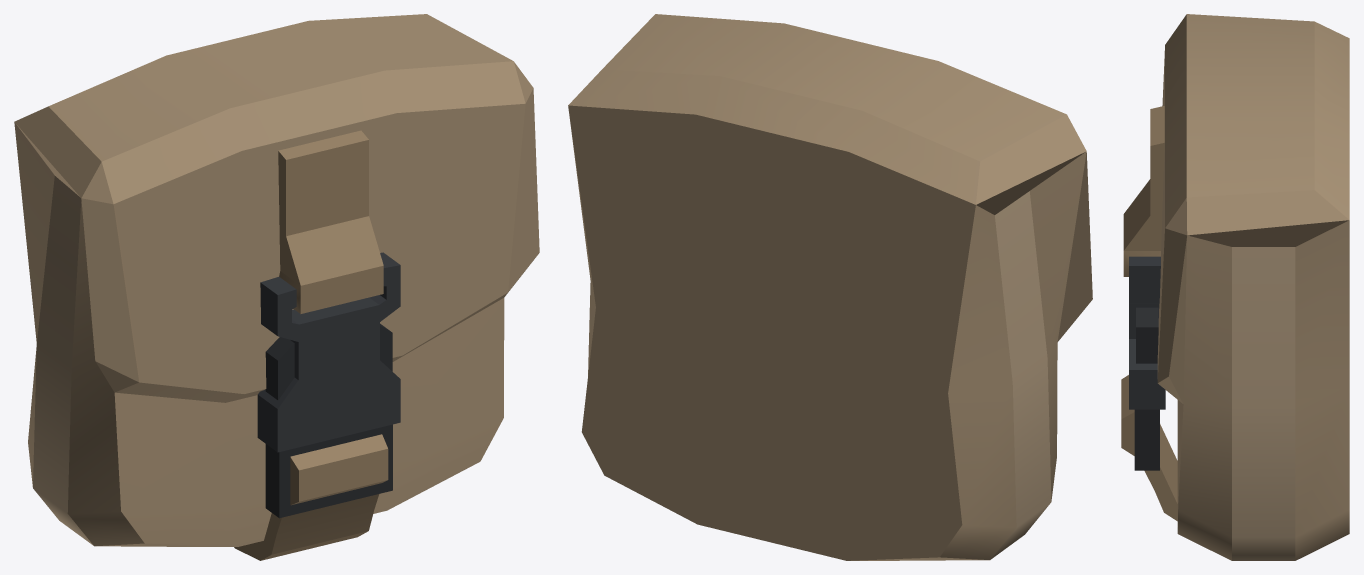
The model's file is SM_Item_Pouch_03.fbx.
3 views of the same model, side by side, from view 1: azimuth 30°, elevation 25°; view 2: azimuth 150°, elevation 25°; view 3: azimuth 270°, elevation 25° (orthographic). The views are drawn at different scales.
Parts seen in each view (by area): view 1: SM_Item_Pouch_03; view 2: SM_Item_Pouch_03; view 3: SM_Item_Pouch_03.
Part boxes in pixels (box(x1,y1,x2,y2)): SM_Item_Pouch_03: box(14, 14, 539, 560); SM_Item_Pouch_03: box(568, 14, 1092, 560); SM_Item_Pouch_03: box(1121, 14, 1349, 560).
Size of the model in its own units: 13.77 by 13.53 by 6.6.
